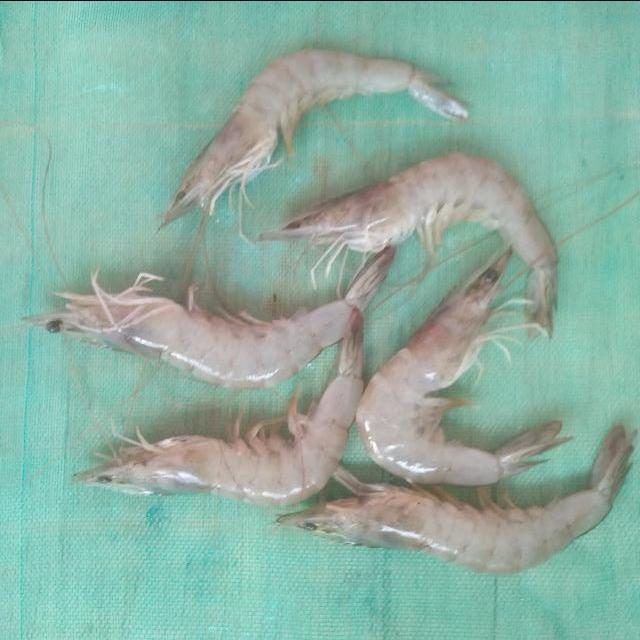shrimp: (72, 309, 364, 506), (260, 152, 558, 340), (160, 48, 468, 225), (277, 424, 634, 575), (25, 245, 395, 388), (356, 249, 573, 485)
